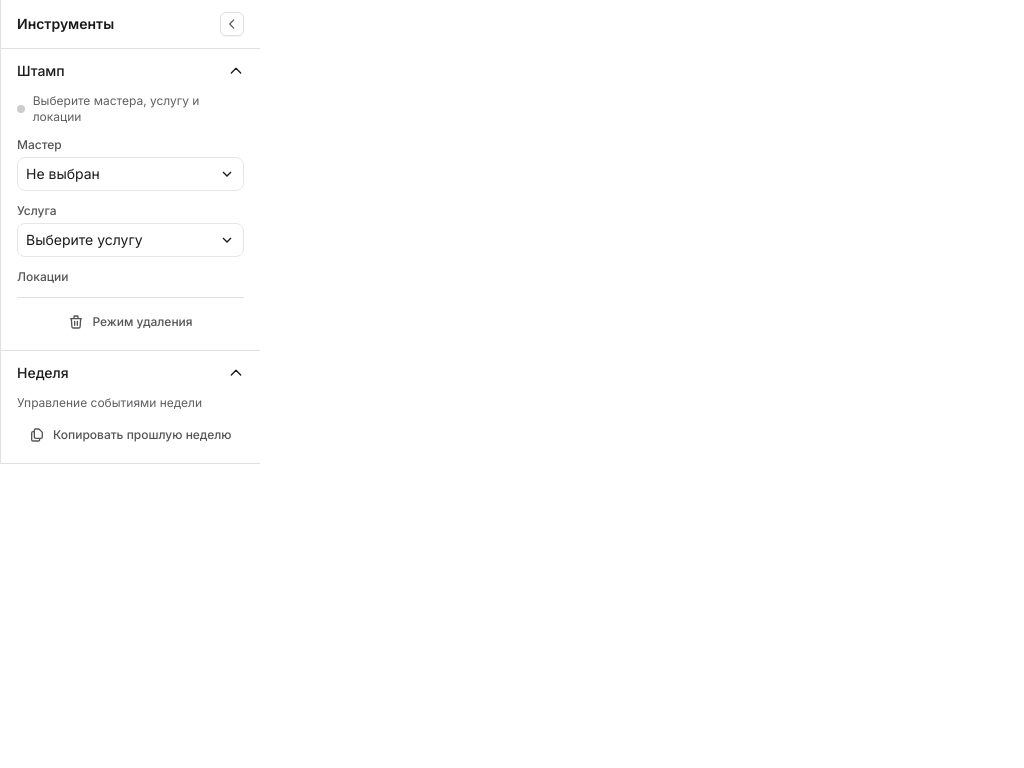
Scenario: Toolbar › copy button opens CopyLastWeekPopover instead of showing a toast
The image size is (1024, 768).
Step 1. Click the button "Копировать прошлую неделю" → (130, 435), box left=17, top=419, right=244, bottom=451
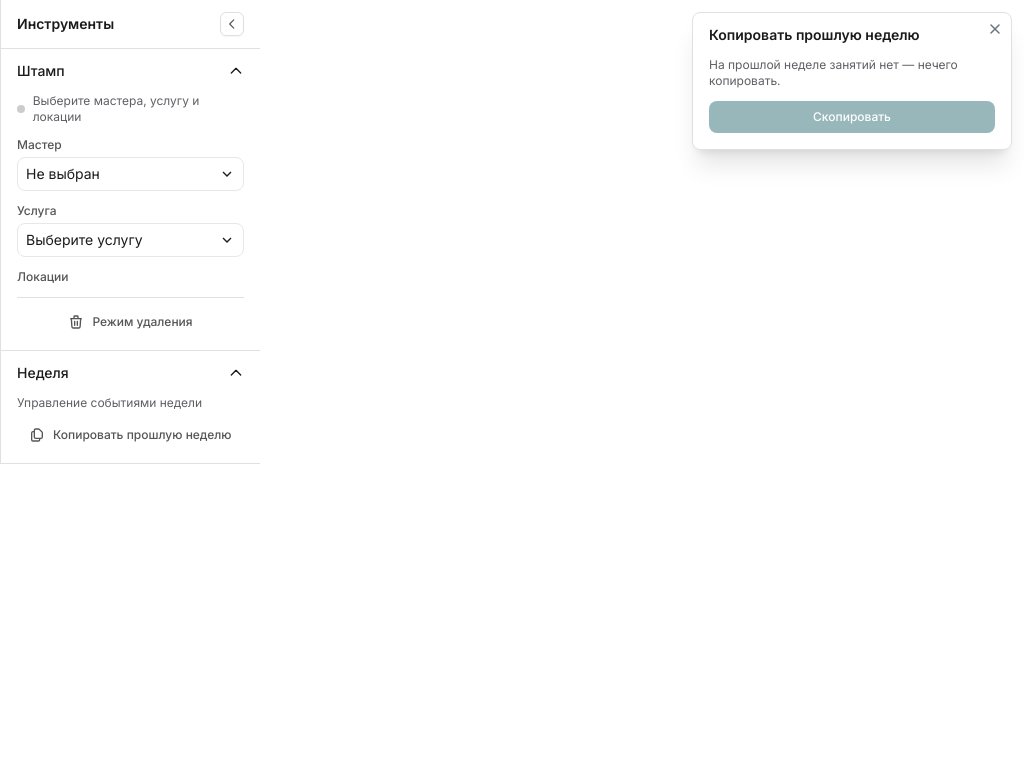
Now the dialog with test id "copy-last-week-popover" is shown, box left=692, top=12, right=1012, bottom=150
